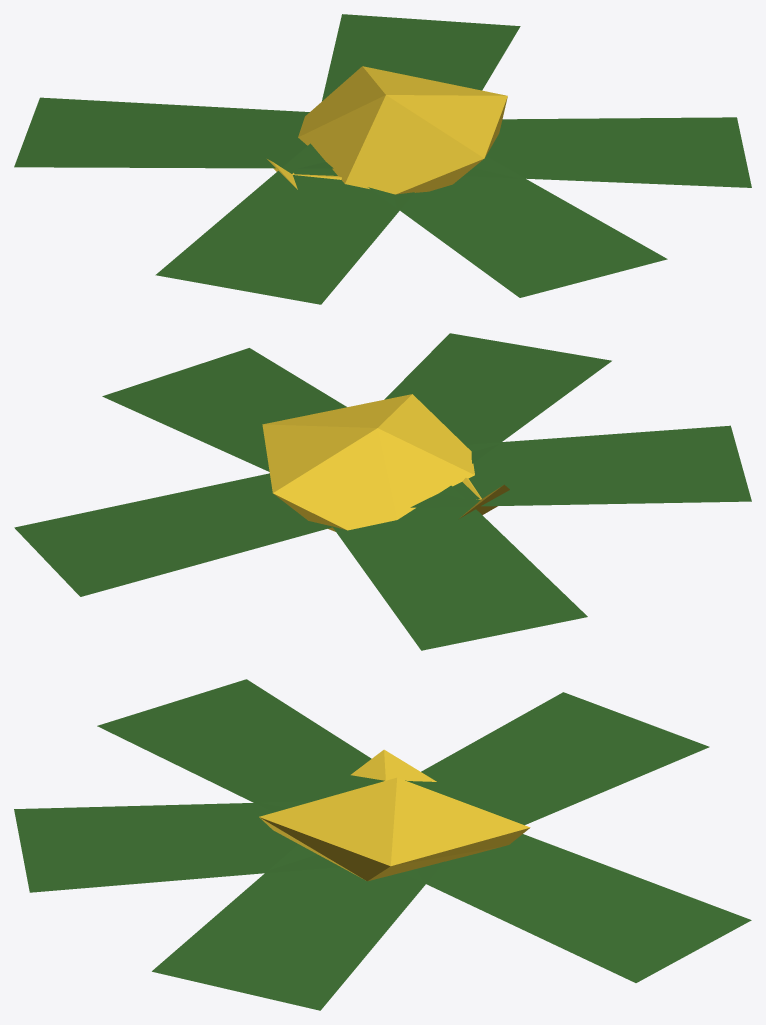
Rendered from Small_Plant_2.fbx.
3 views of the same model, one above another, from view 1: azimuth 30°, elevation 25°; view 2: azimuth 150°, elevation 25°; view 3: azimuth 270°, elevation 25° (orthographic). The views are drawn at different scales.
Visible parts, largest first — view 1: Small_Plant_2; view 2: Small_Plant_2; view 3: Small_Plant_2.
Boxes of the visible parts, x1,y1,x2,y2 form: Small_Plant_2: (14,14,751,304); Small_Plant_2: (14,333,751,650); Small_Plant_2: (14,679,751,1010).
Size of the model in its own units: 267 by 32.1 by 267.
